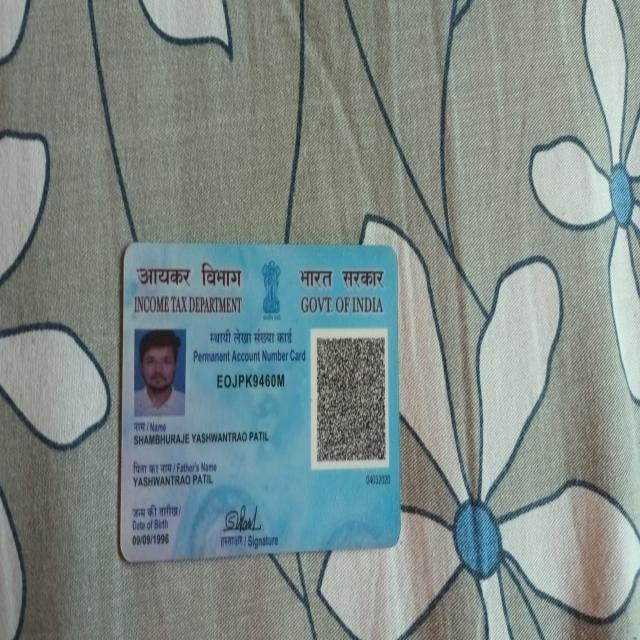pan_card: (118, 244, 401, 559)
